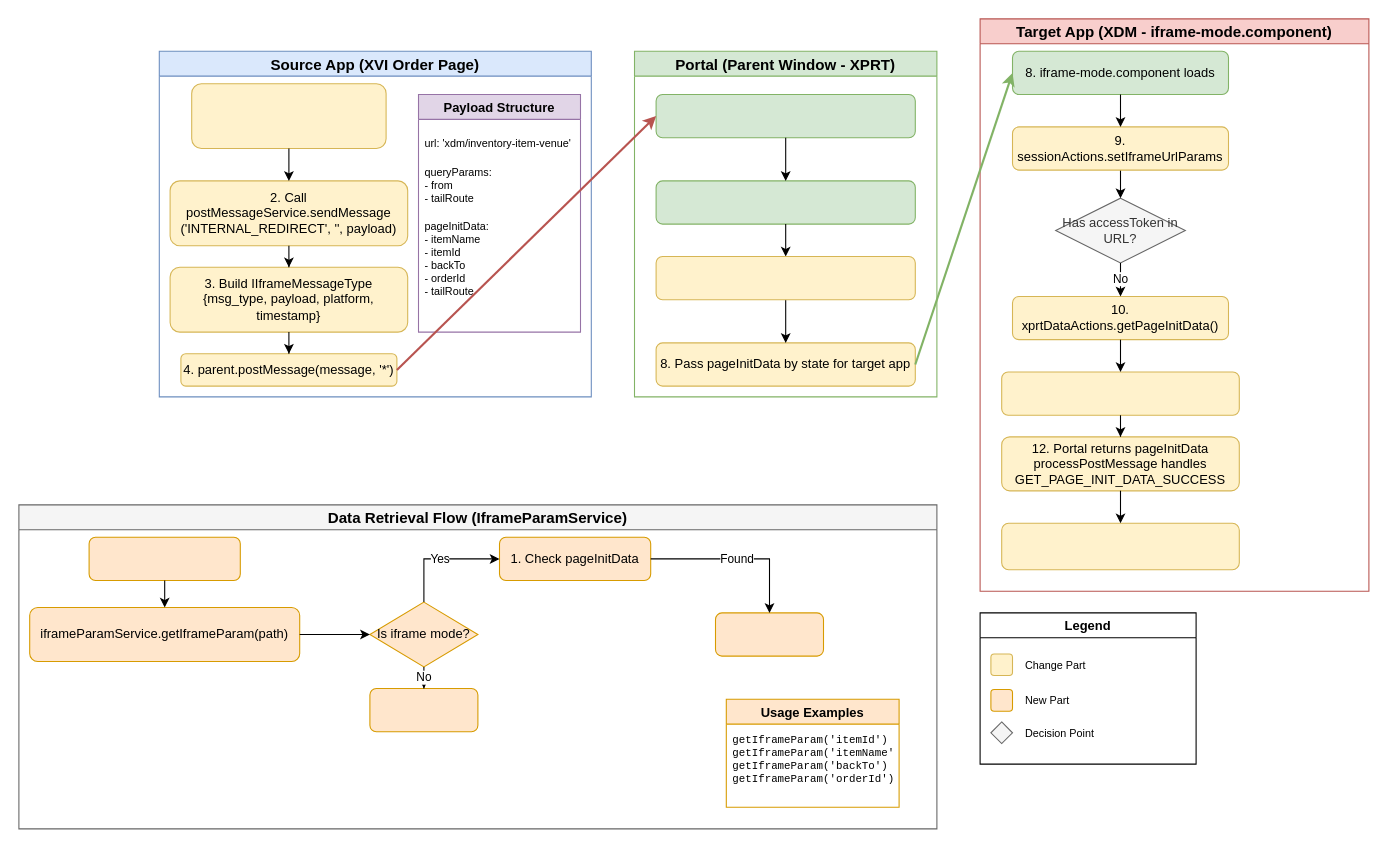
Image size: 1388x848. Some labels were removed from this diagram. The shapes that lost their labels are listed below. From the top down, each one's centre as x and y in pixels, then its label:
At [288,115]: "1. User triggers action (Click 'Mapping By DM' button)".
At [785,115]: "5. Receive postMessage event".
At [785,202]: "6. Parse message & extract URL Navigate to target iframe".
At [785,277]: "7. Pass queryParams for target app".
At [1120,393]: "11. sendMessage('GET_PAGE_INIT_DATA')".
At [164,558]: "Component needs data".
At [1120,546]: "13. sessionActions.setIframePageInitData Data stored in Redux state".
At [769,634]: "Return value".
At [423,709]: "Return undefined".
